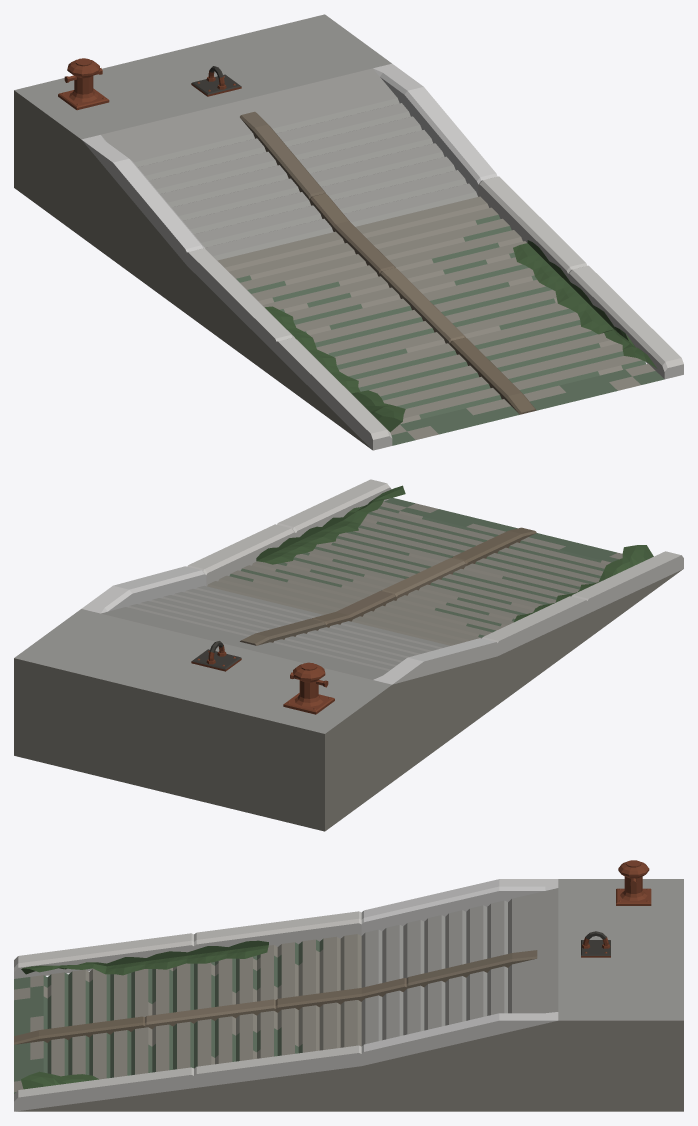
File: slipway-ramp-1e595f.glb
3 renders of one model, top to bottom at view 1: azimuth 30°, elevation 25°; view 2: azimuth 150°, elevation 25°; view 3: azimuth 270°, elevation 25°, orthographic. The views are drawn at different scales.
Parts seen in each view (by area): view 1: slipway-body, slipway-fittings; view 2: slipway-body, slipway-fittings; view 3: slipway-body, slipway-fittings.
Boxes of the visible parts, x1=… form: slipway-body: x1=14, y1=14, x2=683, y2=450; slipway-fittings: x1=58, y1=58, x2=241, y2=110; slipway-body: x1=14, y1=479, x2=683, y2=831; slipway-fittings: x1=191, y1=641, x2=334, y2=714; slipway-body: x1=14, y1=879, x2=683, y2=1111; slipway-fittings: x1=581, y1=860, x2=651, y2=957.
Bounding box in the file's own units: 4 × 1.66 × 8.
